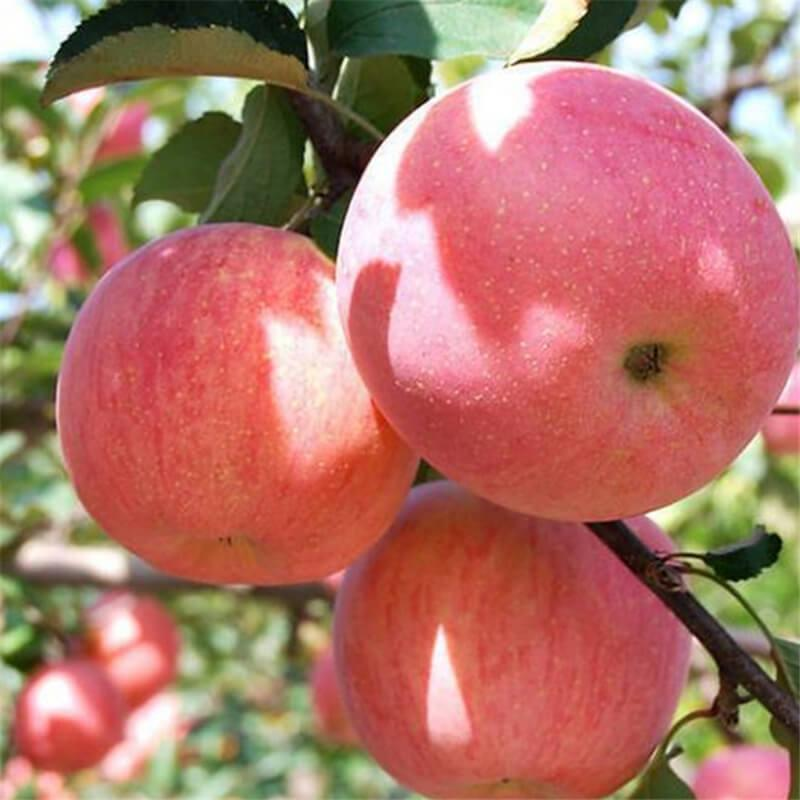apple: (332, 83, 795, 527), (51, 237, 417, 602), (332, 498, 694, 800)
